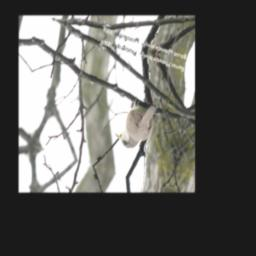Cuckoo: (114, 93, 159, 156)
